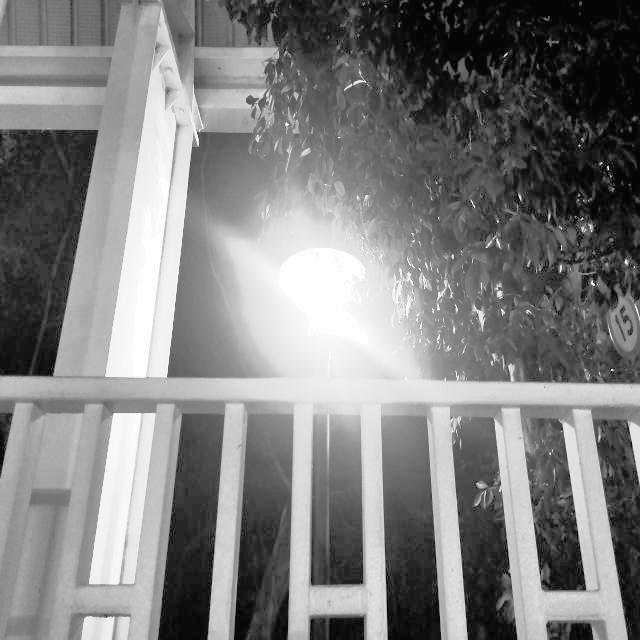Light: (212, 168, 466, 454)
